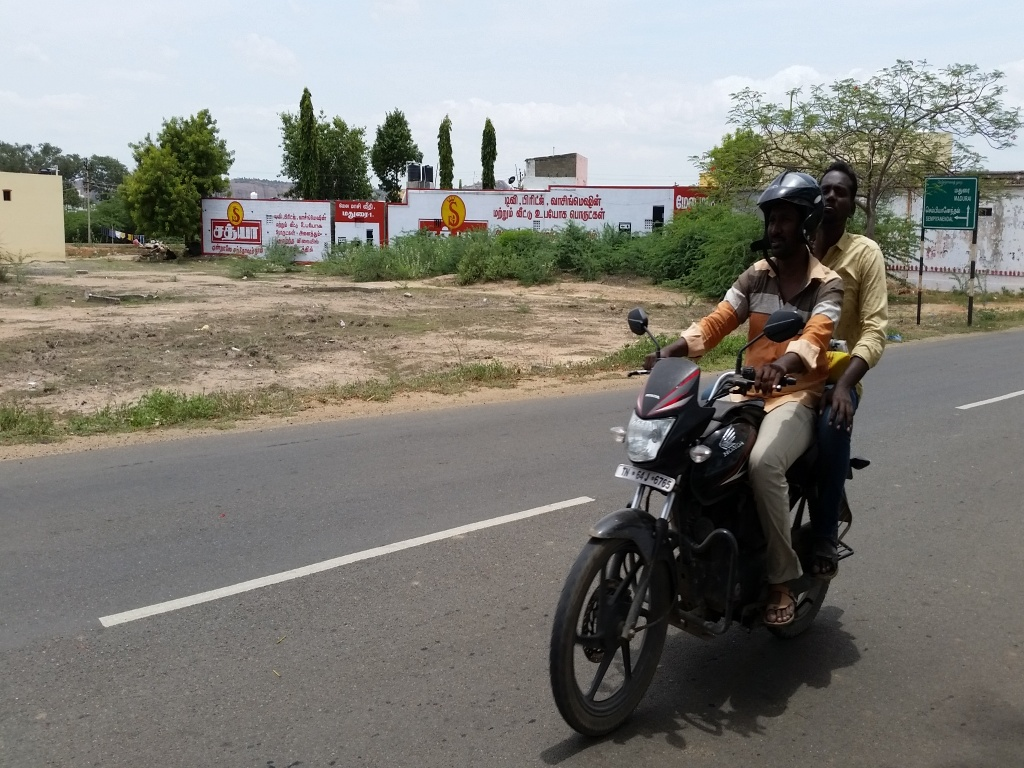biker: (501, 108, 922, 757)
helmet: (752, 162, 818, 266)
nohelmet: (817, 158, 870, 248)
